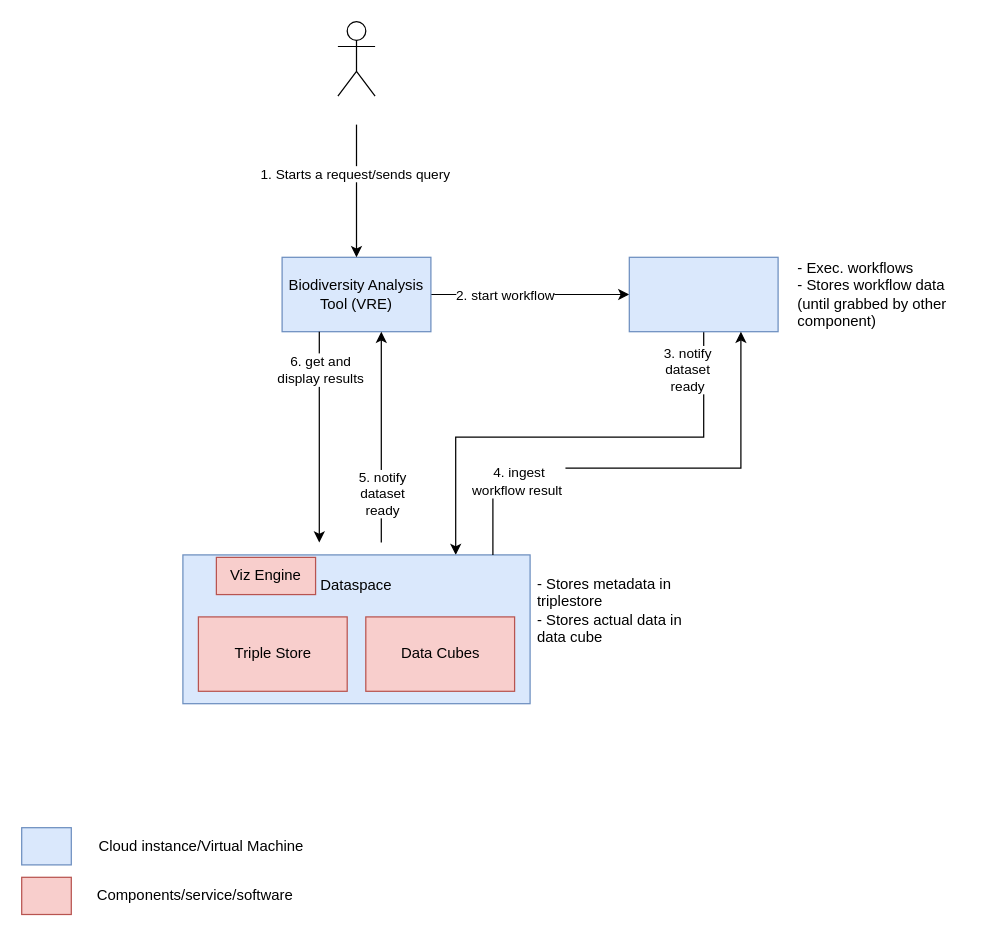
Image size: 998x936. Some labels were removed from this diagram. Here are the shapes that lost their labels. From the top down, the centre of each, then its label:
the point at 356,58: BMD Stakeholder/user
the point at 703,294: Workflow Engine & Workflow API
